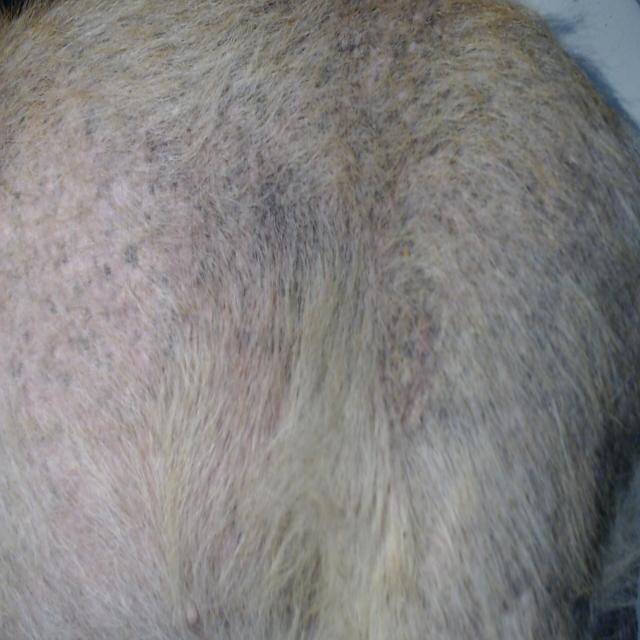demodicosis: (13, 134, 294, 463), (358, 281, 481, 470), (312, 27, 435, 146)
